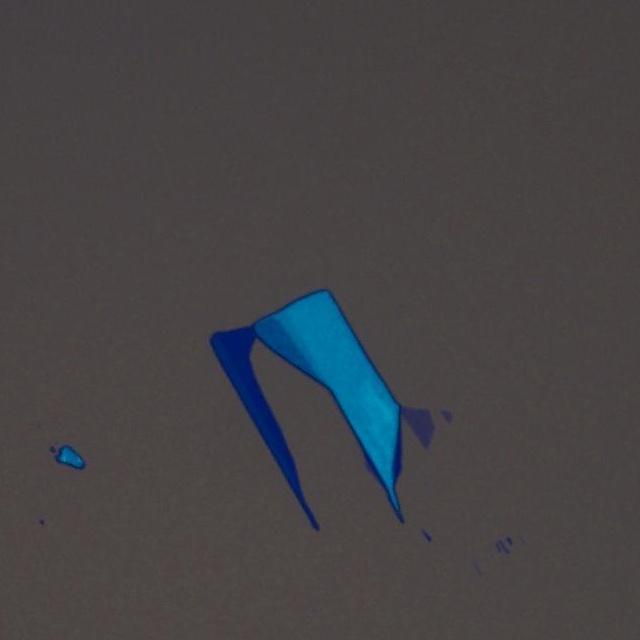monolayer-eWW4: (400, 402, 436, 450), (438, 408, 454, 424)
